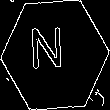N_S: (36, 29, 74, 81)
